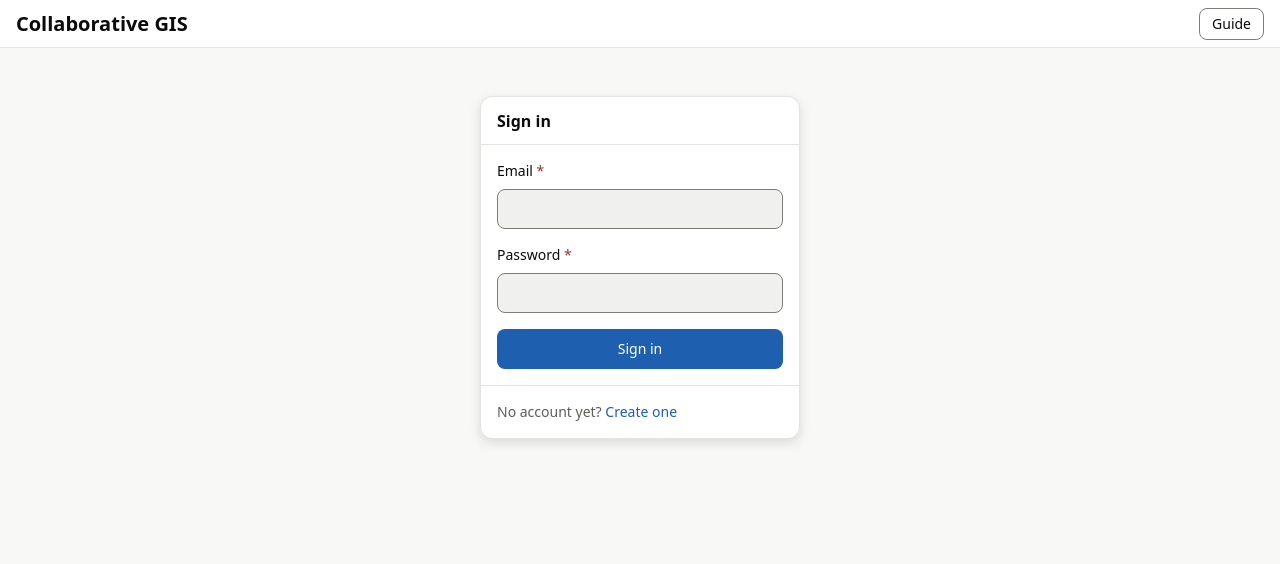
Scenario: /login › shows the generic copy when the failure carries no message
The width and height of the screenshot is (1280, 564).
Check: the heading "Sign in" is shown, box left=497, top=108, right=551, bottom=132
Step 1. Type "ada@example.com" into the field labelled "Email" → (640, 209), box left=497, top=189, right=783, bottom=229
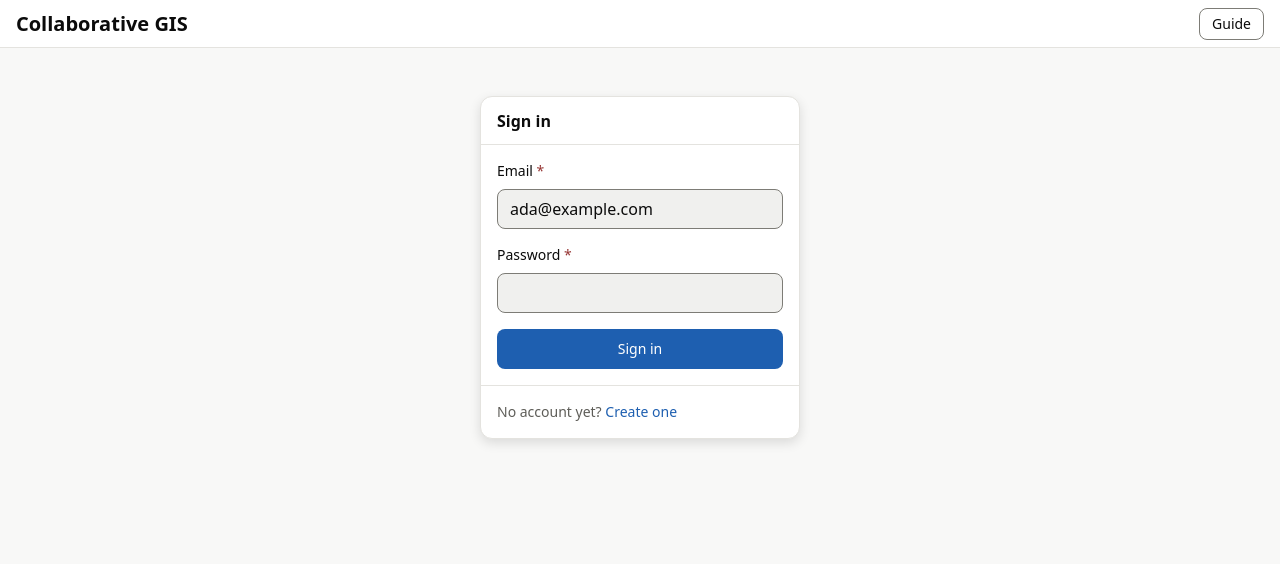
Step 2. Type "correct horse" into the password field labelled "Password" → (640, 293), box left=497, top=273, right=783, bottom=313
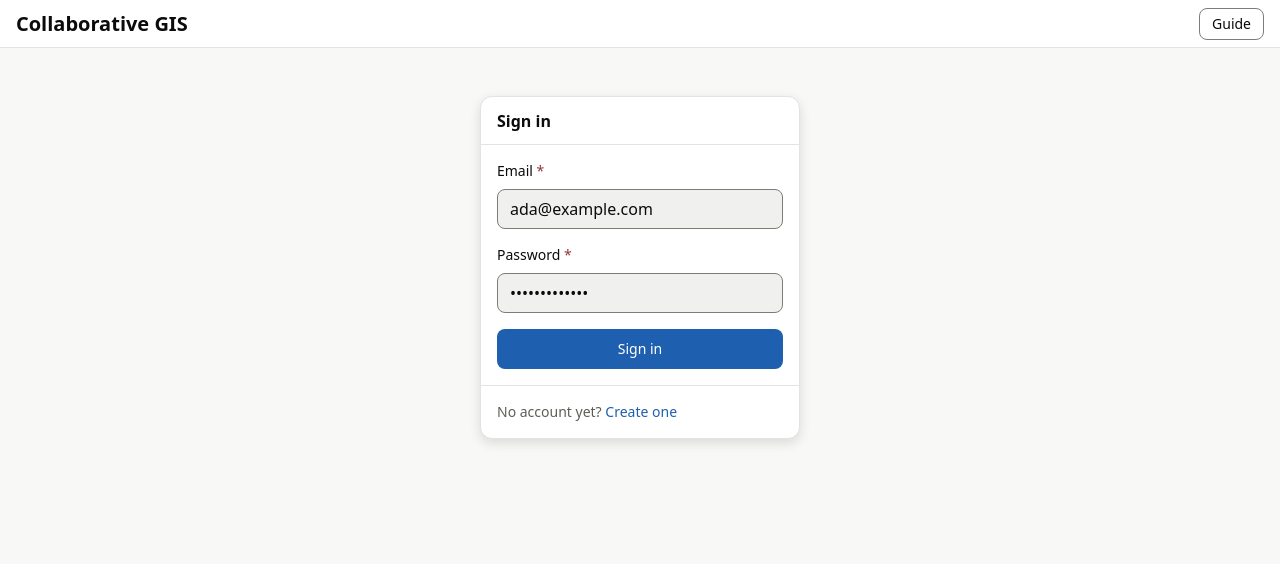
Step 3. Click the button "Sign in" → (640, 349), box left=497, top=329, right=783, bottom=369
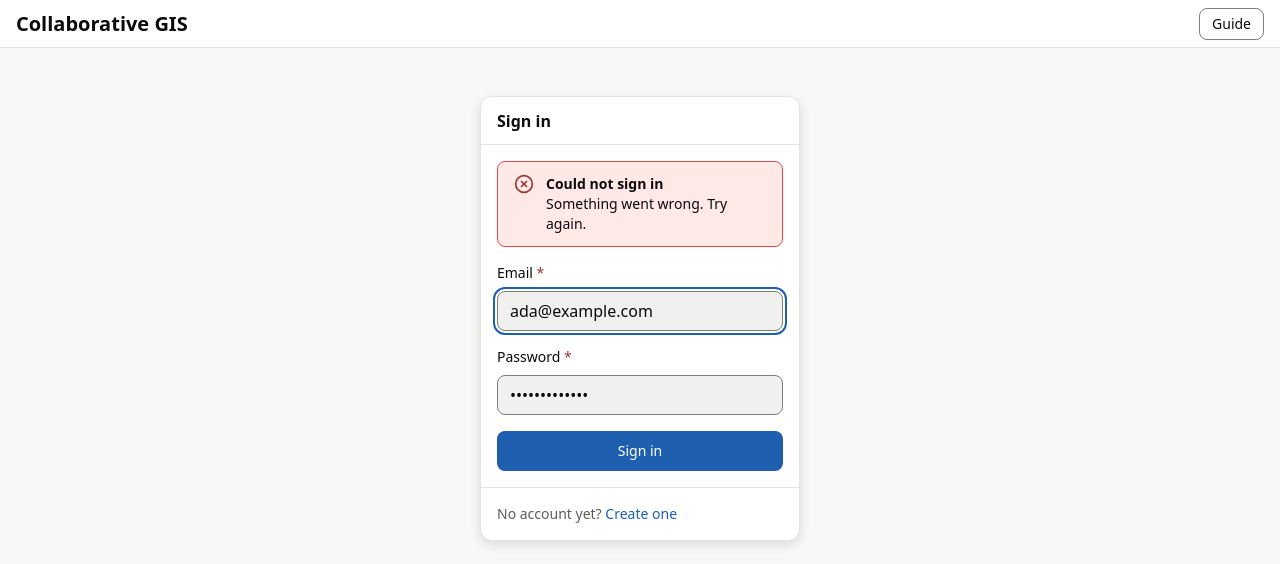
Check: the message shows "Something went wrong. Try again.", box left=546, top=194, right=727, bottom=233
